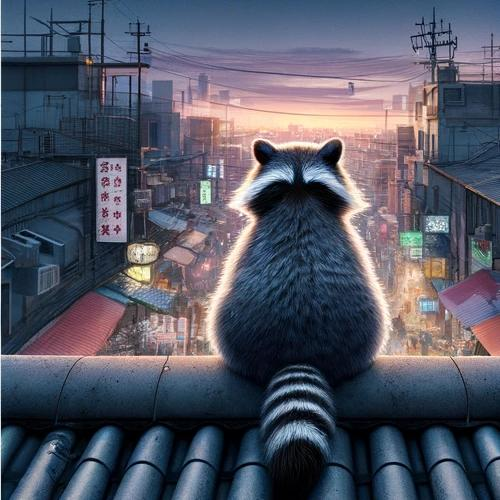raccoon: (193, 126, 403, 500)
